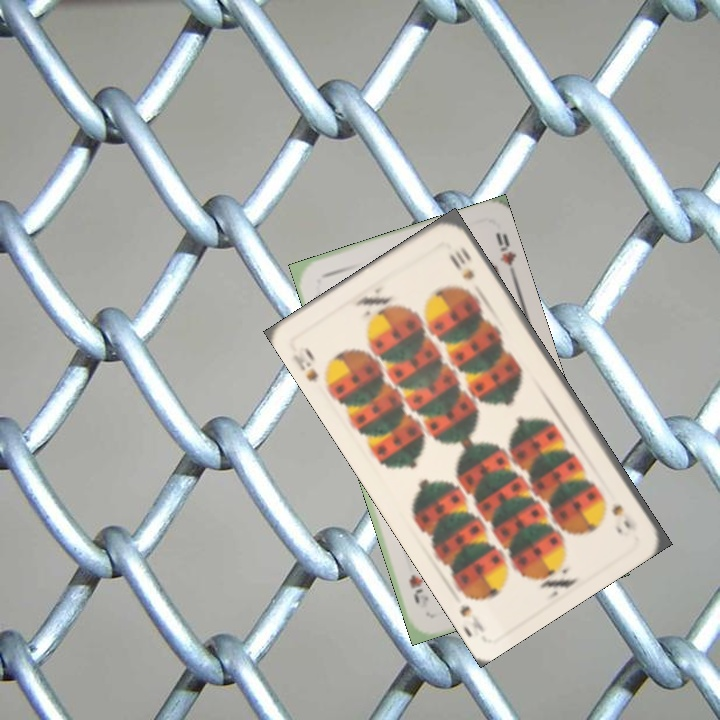S10: (288, 343, 321, 384), (608, 500, 640, 534)
